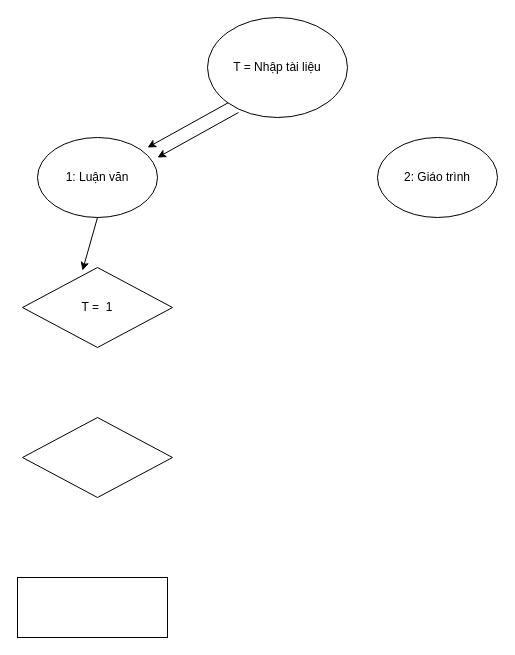
The diagram is 515 pixels wide and 655 high, and some of its shapes have lost their labels. Here are the shapes that lost their labels. From the top down, the centre of each, then its label:
At (x=97, y=457): "Số trang = 10 Số bản = 3".
At (x=92, y=607): "Số lượng giấy: 30".
